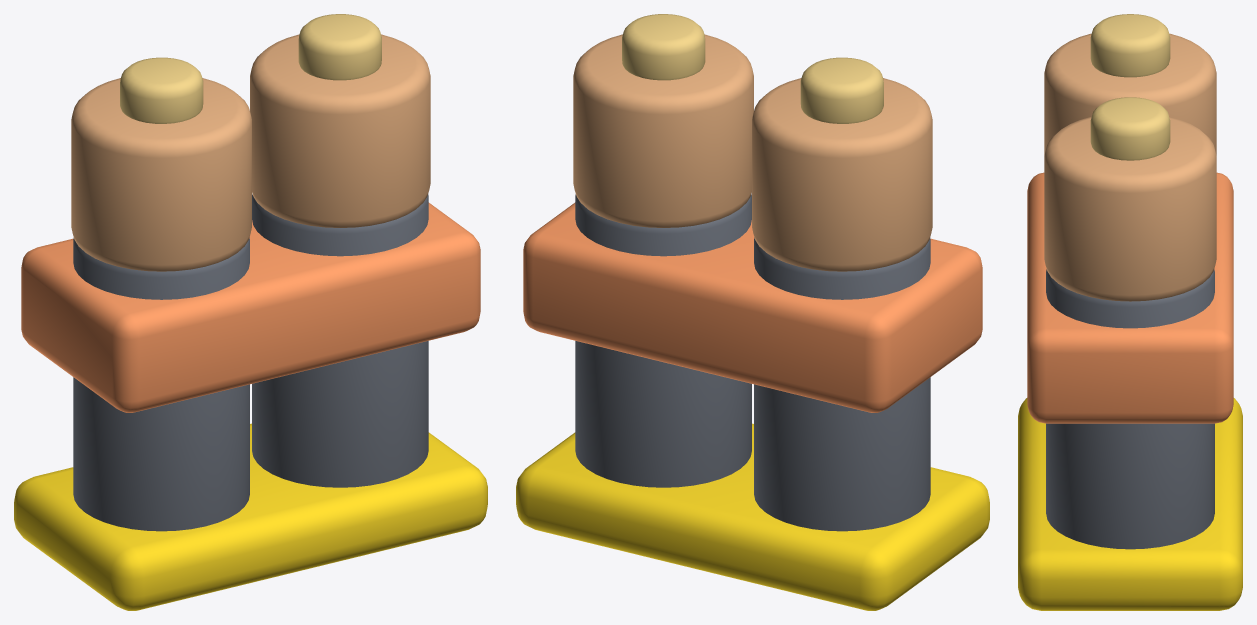
File: SM_SmallBattery.fbx
The picture shows the model from 3 angles, left to right: view 1: azimuth 30°, elevation 25°; view 2: azimuth 150°, elevation 25°; view 3: azimuth 270°, elevation 25°; orthographic projection. The views are drawn at different scales.
Parts seen in each view (by area): view 1: SM_SmallBattery; view 2: SM_SmallBattery; view 3: SM_SmallBattery.
Boxes of the visible parts, x1,y1,x2,y2 form: SM_SmallBattery: (14,14,487,610); SM_SmallBattery: (516,14,989,610); SM_SmallBattery: (1018,14,1242,610).
Size of the model in its own units: 15.84 by 19.62 by 8.64.
